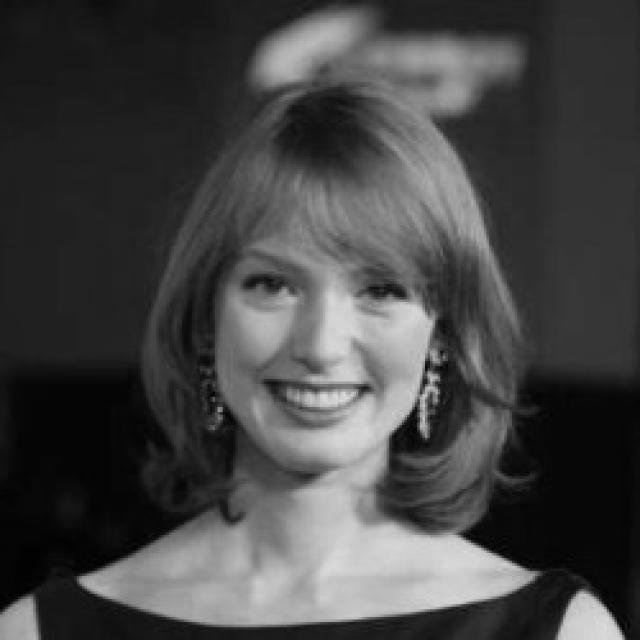real: (205, 190, 460, 474), (239, 254, 419, 326)
